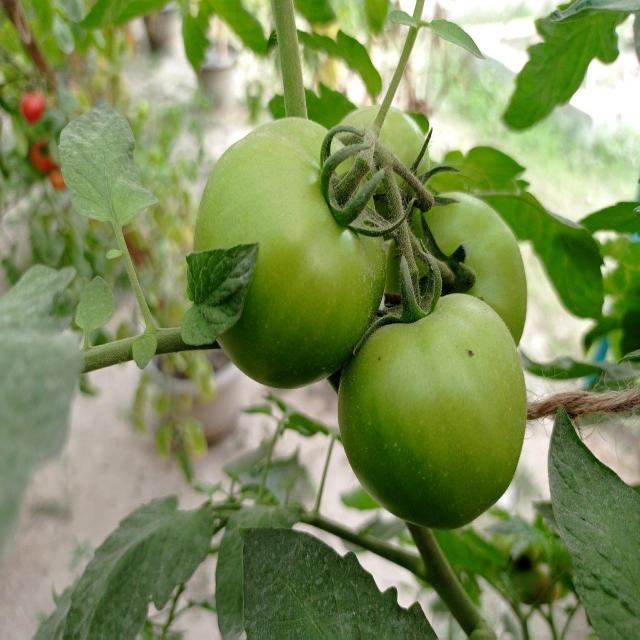Unripe: (189, 114, 389, 386), (340, 289, 528, 529)
